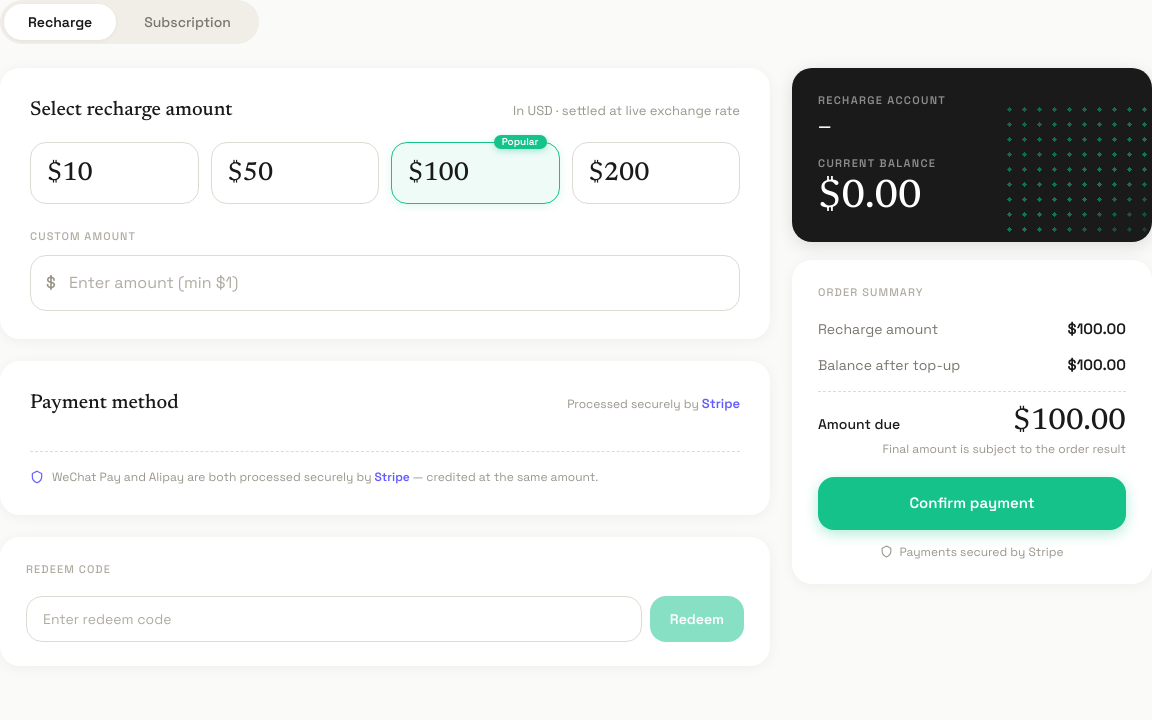
Test: RechargeView：订阅 tab 不受 legacy 购买开关影响 › 开关为 false 时，切到订阅 tab 照样能看到在售套餐
Click the button "Subscription": coordinates (188, 22) [120,4,255,40]
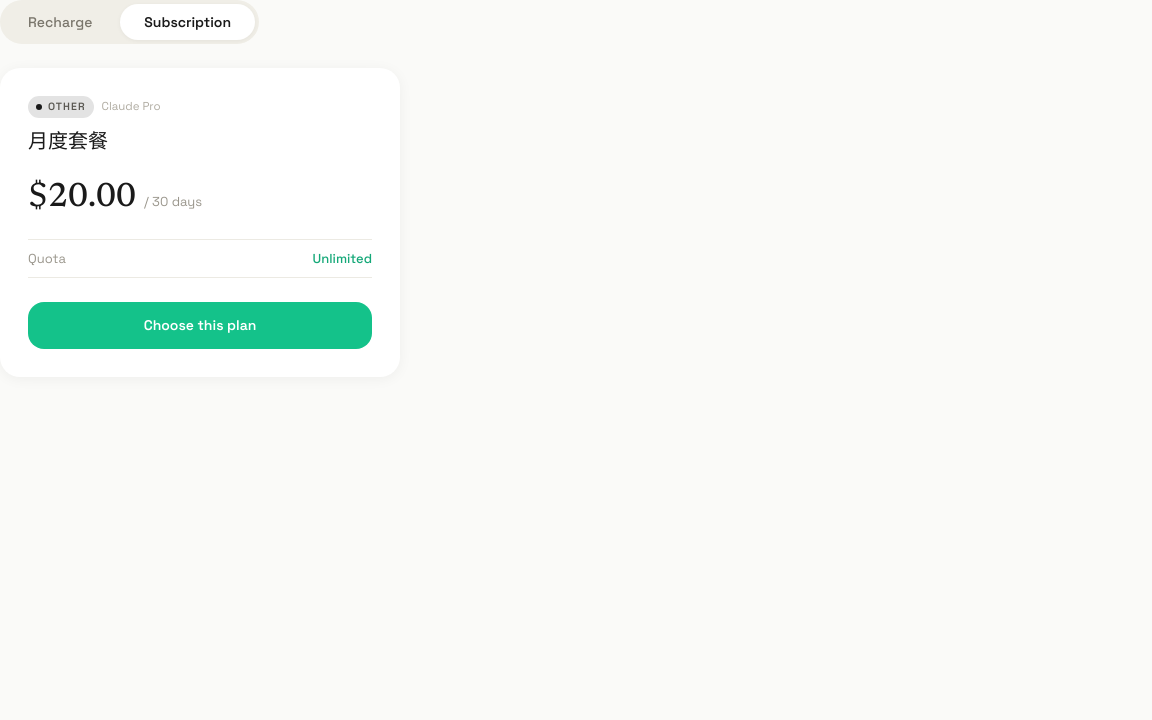
Result: the text "月度套餐" is shown at [28,133,108,153]
